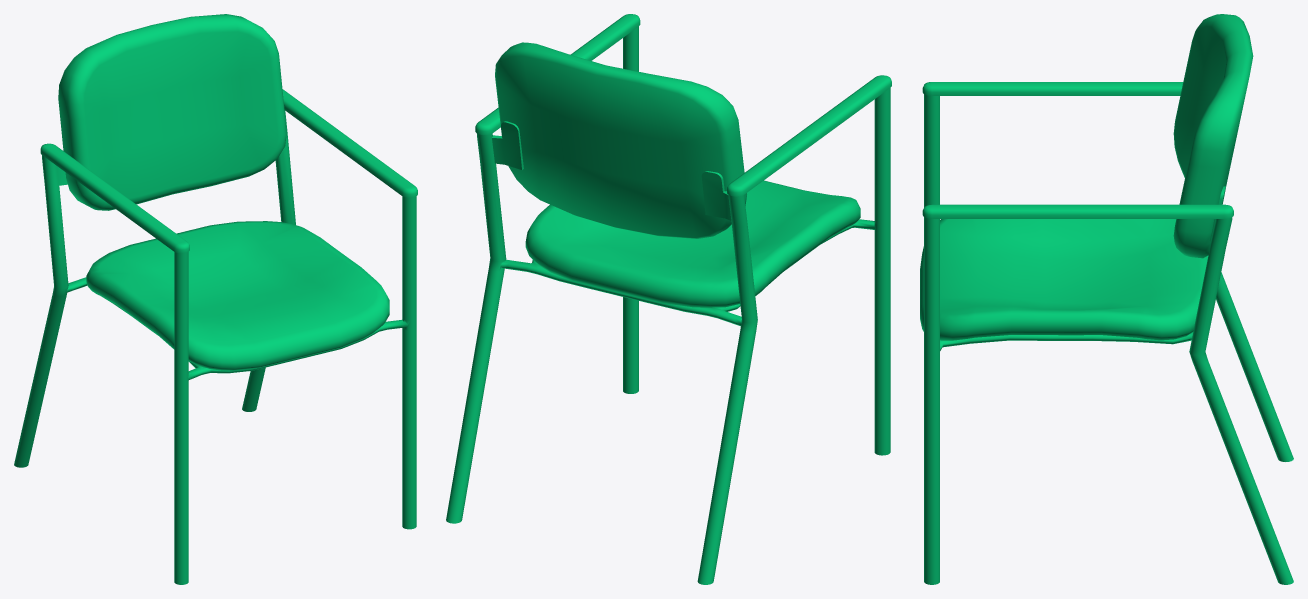
Rendered from Chair_1.fbx.
3 views of the same model, side by side, from view 1: azimuth 30°, elevation 25°; view 2: azimuth 150°, elevation 25°; view 3: azimuth 270°, elevation 25° (orthographic). The views are drawn at different scales.
Parts seen in each view (by area): view 1: Chair_1; view 2: Chair_1; view 3: Chair_1.
Boxes of the visible parts, box(x1,y1,x2,y2) form: Chair_1: box(14, 14, 417, 584); Chair_1: box(446, 14, 891, 584); Chair_1: box(920, 14, 1293, 584).
Bounding box in the file's own units: 57.64 × 96.34 × 69.61.
